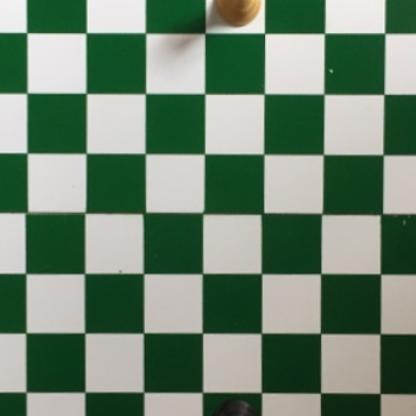black-queen: (210, 395, 258, 416)
white-queen: (212, 0, 261, 28)
